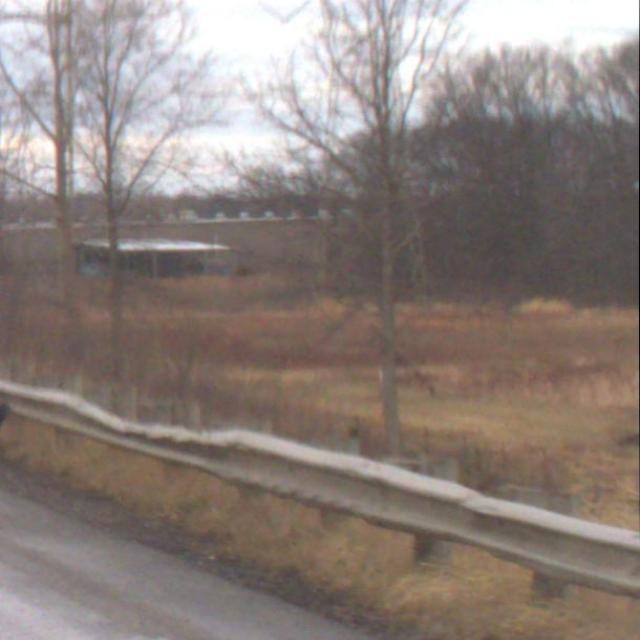Guard rail: (0, 353, 640, 626)
